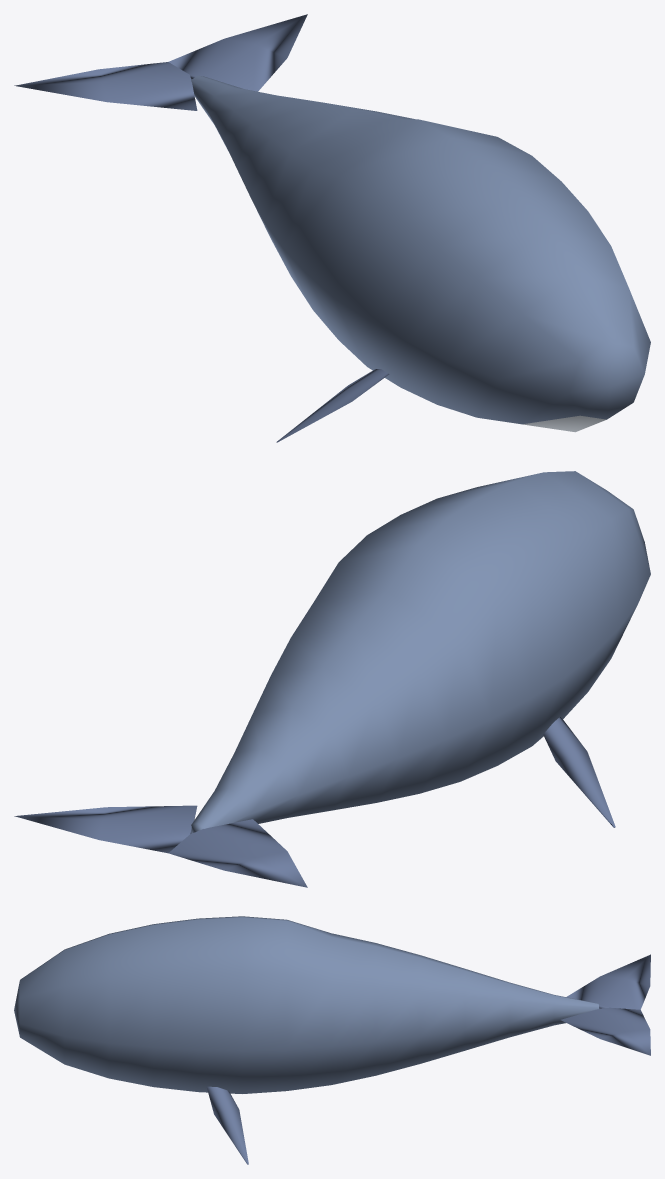
The model's file is whale_far.glb.
3 views of the same model, one above another, from view 1: azimuth 30°, elevation 25°; view 2: azimuth 150°, elevation 25°; view 3: azimuth 270°, elevation 25° (orthographic). The views are drawn at different scales.
Visible parts, largest first — view 1: whale_far; view 2: whale_far; view 3: whale_far.
Boxes of the visible parts, bbox=[...] form: whale_far: bbox=[14, 14, 650, 442]; whale_far: bbox=[14, 471, 650, 887]; whale_far: bbox=[14, 916, 650, 1164].
Size of the model in its own units: 5.48 by 4.12 by 12.61.
